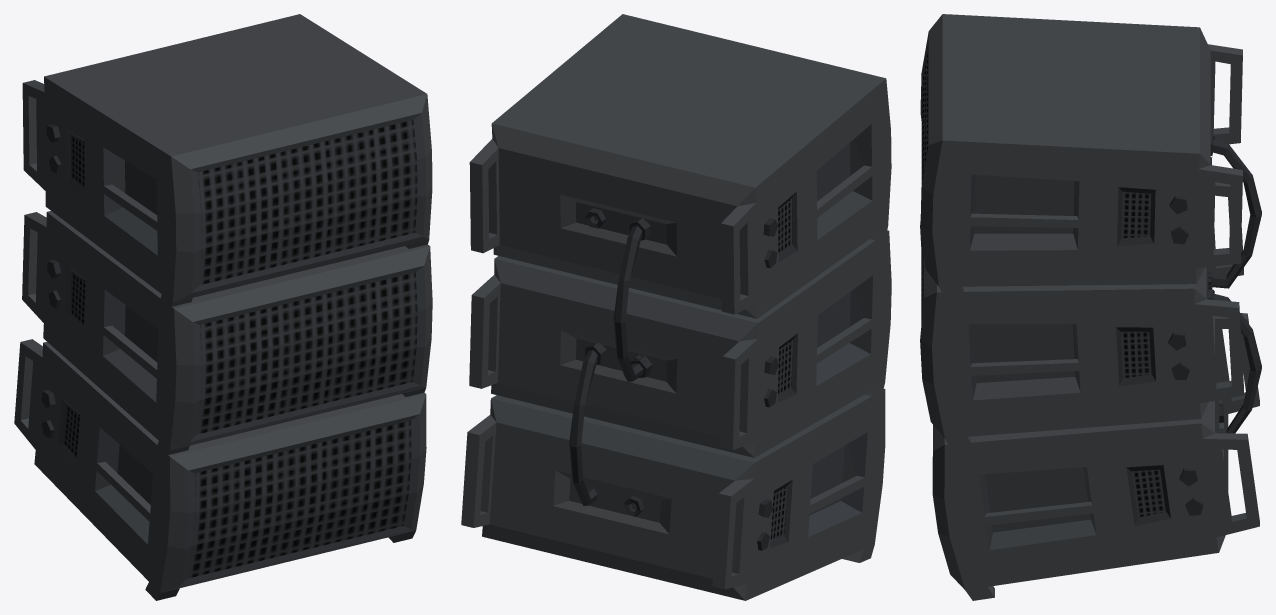
File: SM_Prop_Speakers_Tall_02.fbx
3 renders of one model, left to right at view 1: azimuth 30°, elevation 25°; view 2: azimuth 150°, elevation 25°; view 3: azimuth 270°, elevation 25°, orthographic. The views are drawn at different scales.
Visible parts, largest first — view 1: SM_Prop_Speakers_Tall_02; view 2: SM_Prop_Speakers_Tall_02; view 3: SM_Prop_Speakers_Tall_02.
Part boxes in pixels (box(x1,y1,x2,y2)): SM_Prop_Speakers_Tall_02: box(14, 14, 432, 600); SM_Prop_Speakers_Tall_02: box(461, 14, 891, 600); SM_Prop_Speakers_Tall_02: box(920, 14, 1261, 600).
Size of the model in its own units: 130 by 213 by 143.
